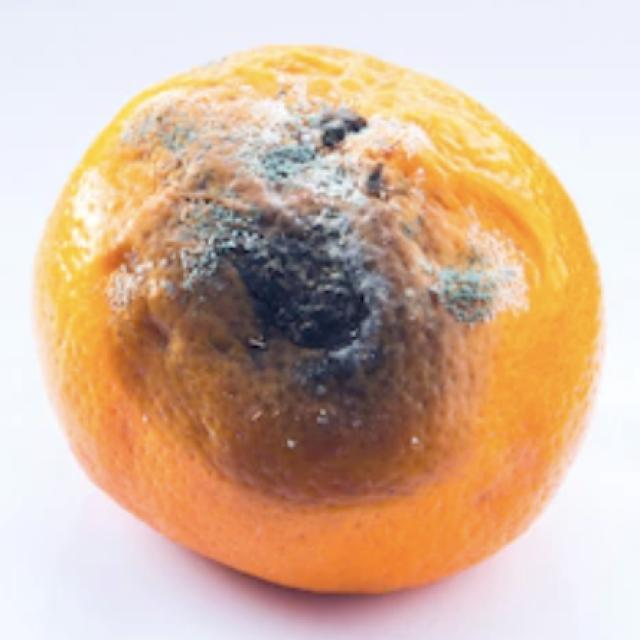orange: (37, 48, 601, 592)
